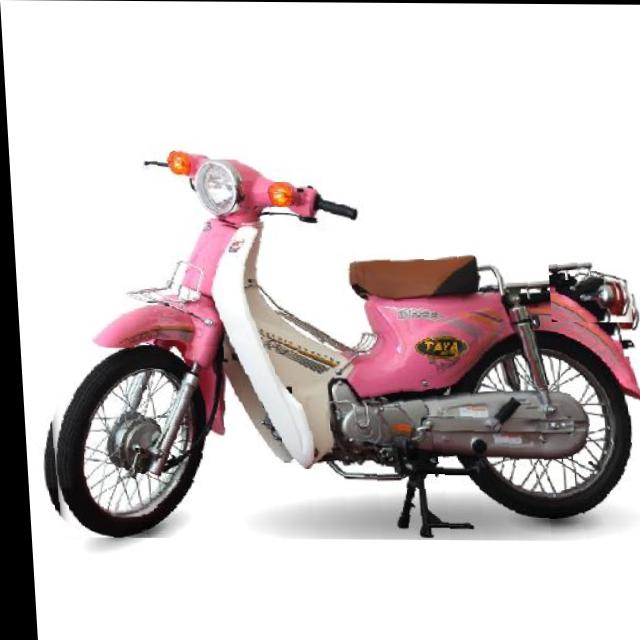All: (23, 137, 640, 541)
Head: (140, 146, 359, 225)
Tail: (545, 249, 632, 322)
